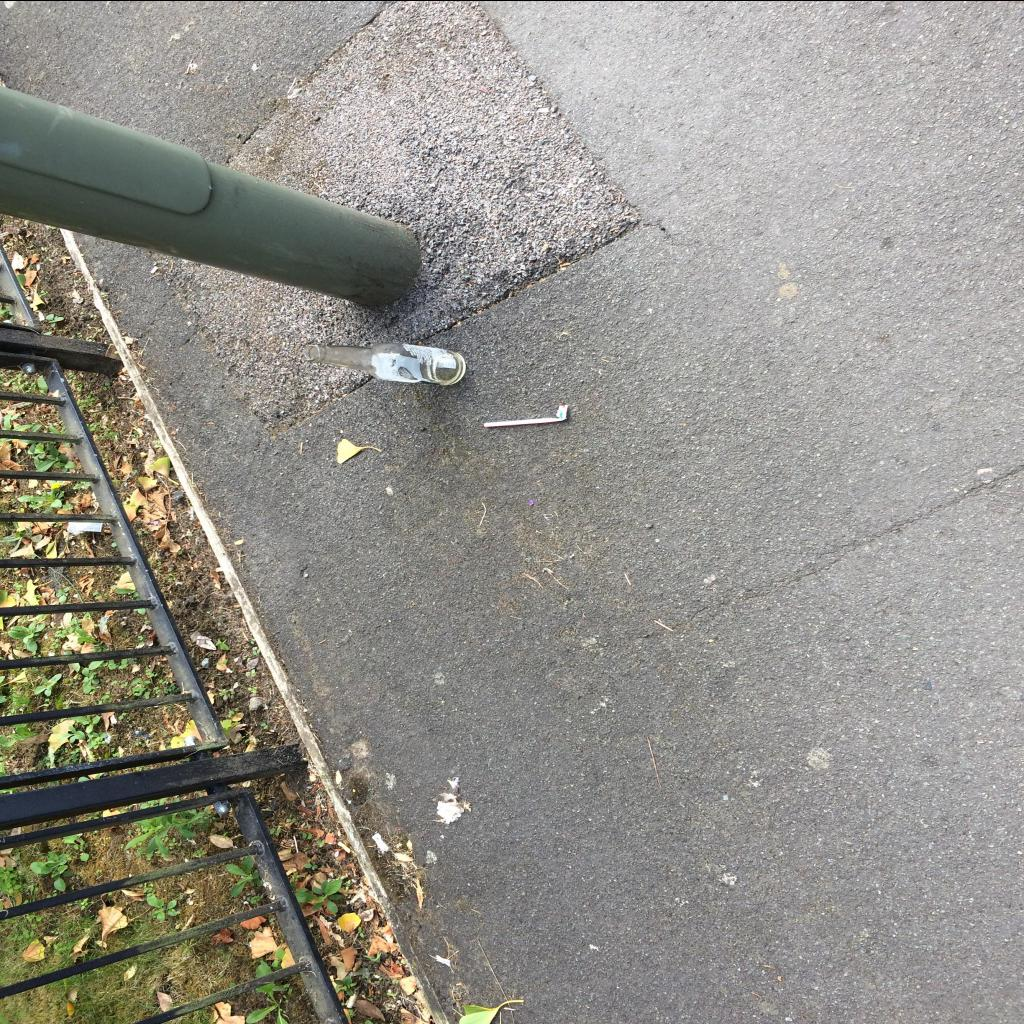Glass bottle: (304, 342, 466, 384)
Plastic straw: (484, 404, 568, 426)
Unlabeled litter: (66, 522, 102, 534)
